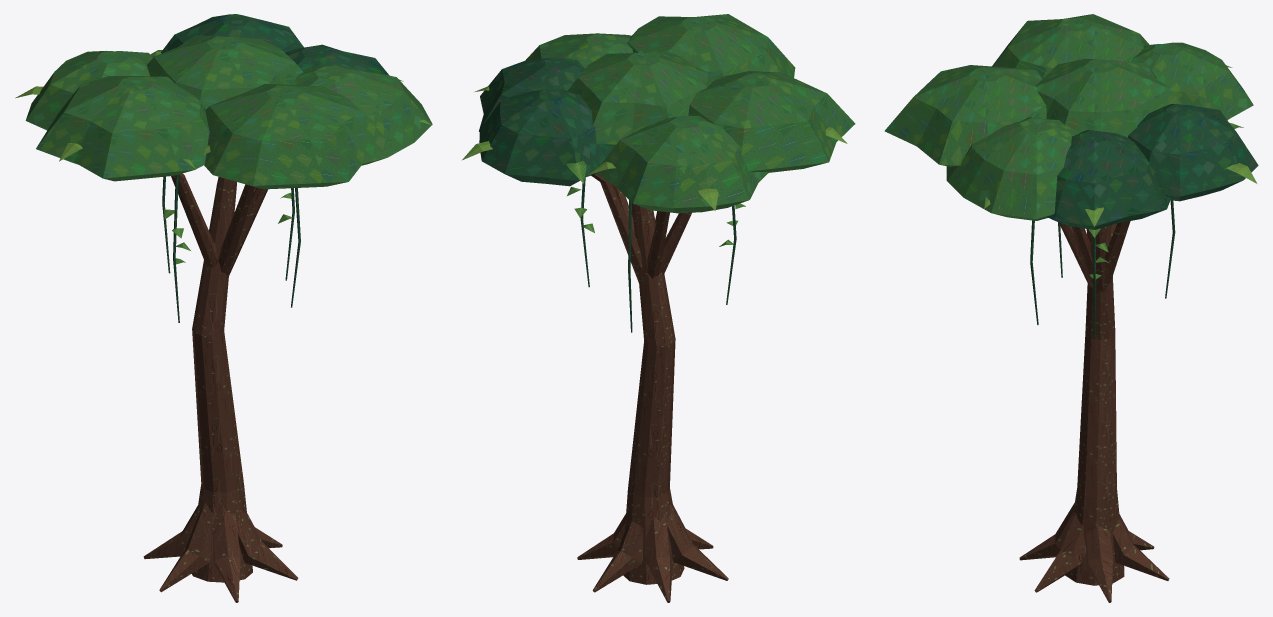
File: tree1.glb
3 renders of one model, left to right at view 1: azimuth 30°, elevation 25°; view 2: azimuth 150°, elevation 25°; view 3: azimuth 270°, elevation 25°, orthographic. The views are drawn at different scales.
Visible parts, largest first — view 1: SculptedTrunk; view 2: SculptedTrunk; view 3: SculptedTrunk.
Boxes of the visible parts, <box> form: SculptedTrunk: <box>15,14,432,602</box>; SculptedTrunk: <box>462,14,855,602</box>; SculptedTrunk: <box>884,14,1258,602</box>.
Bounding box in the file's own units: 6.28 × 8.61 × 5.73.
5 materials, 5 textured.
